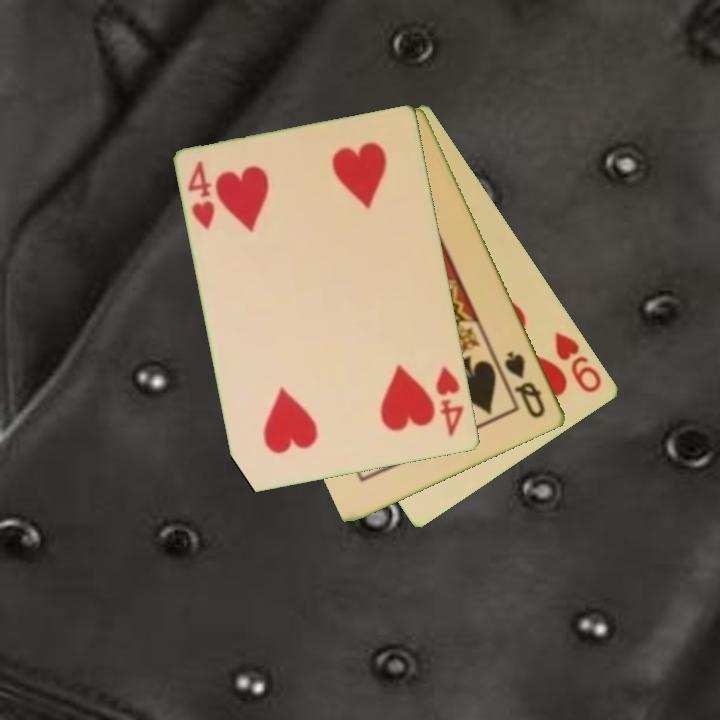4h: (432, 363, 467, 439), (184, 158, 219, 234)
9h: (551, 328, 606, 396)
Qs: (501, 348, 549, 422)
